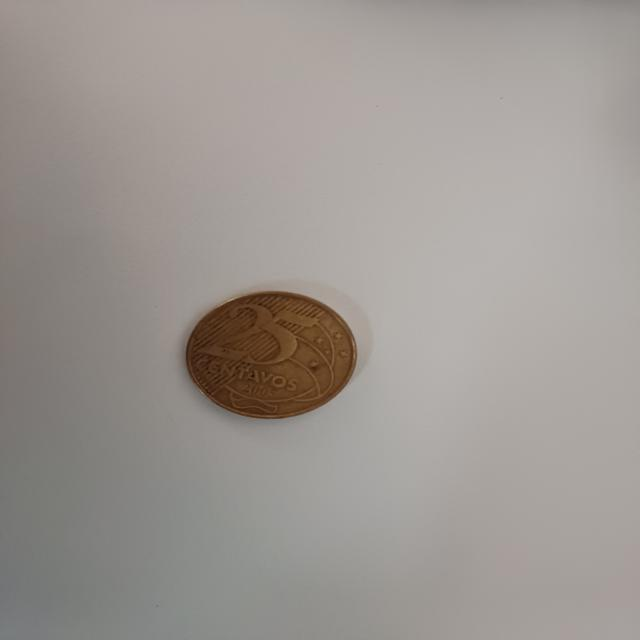25 cents: (184, 289, 357, 422)
